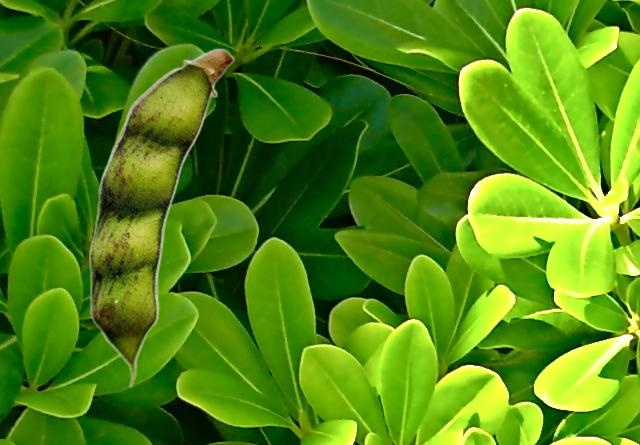pea: (89, 47, 234, 387)
